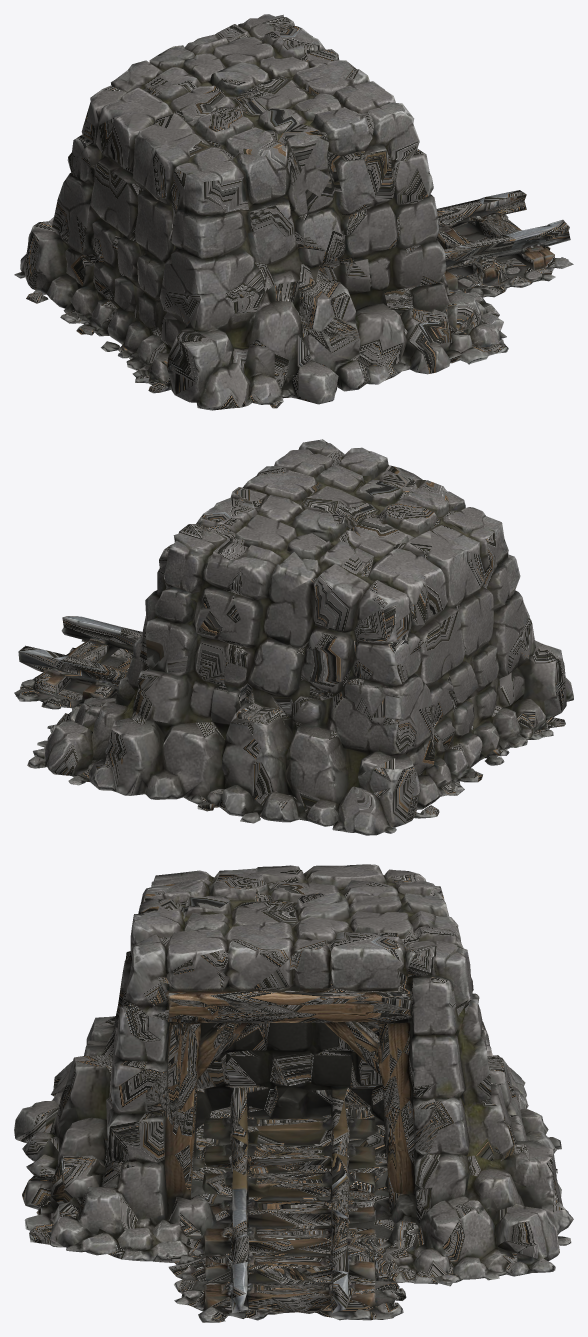
Rendered from stone_mine_tunnel_01.glb.
The picture shows the model from 3 angles, top to bottom: view 1: azimuth 30°, elevation 25°; view 2: azimuth 150°, elevation 25°; view 3: azimuth 270°, elevation 25°; orthographic projection. The views are drawn at different scales.
Parts seen in each view (by area): view 1: tripo_node_af6cb1a3-23ab-469a-a732-c4abd9dabef3; view 2: tripo_node_af6cb1a3-23ab-469a-a732-c4abd9dabef3; view 3: tripo_node_af6cb1a3-23ab-469a-a732-c4abd9dabef3.
Part boxes in pixels (box(x1,y1,x2,y2)): tripo_node_af6cb1a3-23ab-469a-a732-c4abd9dabef3: box(14, 14, 573, 410); tripo_node_af6cb1a3-23ab-469a-a732-c4abd9dabef3: box(14, 439, 573, 835); tripo_node_af6cb1a3-23ab-469a-a732-c4abd9dabef3: box(14, 864, 573, 1322).
Bounding box in the file's own units: 0.9831 × 0.4647 × 0.8882.
1 material, 1 textured.
